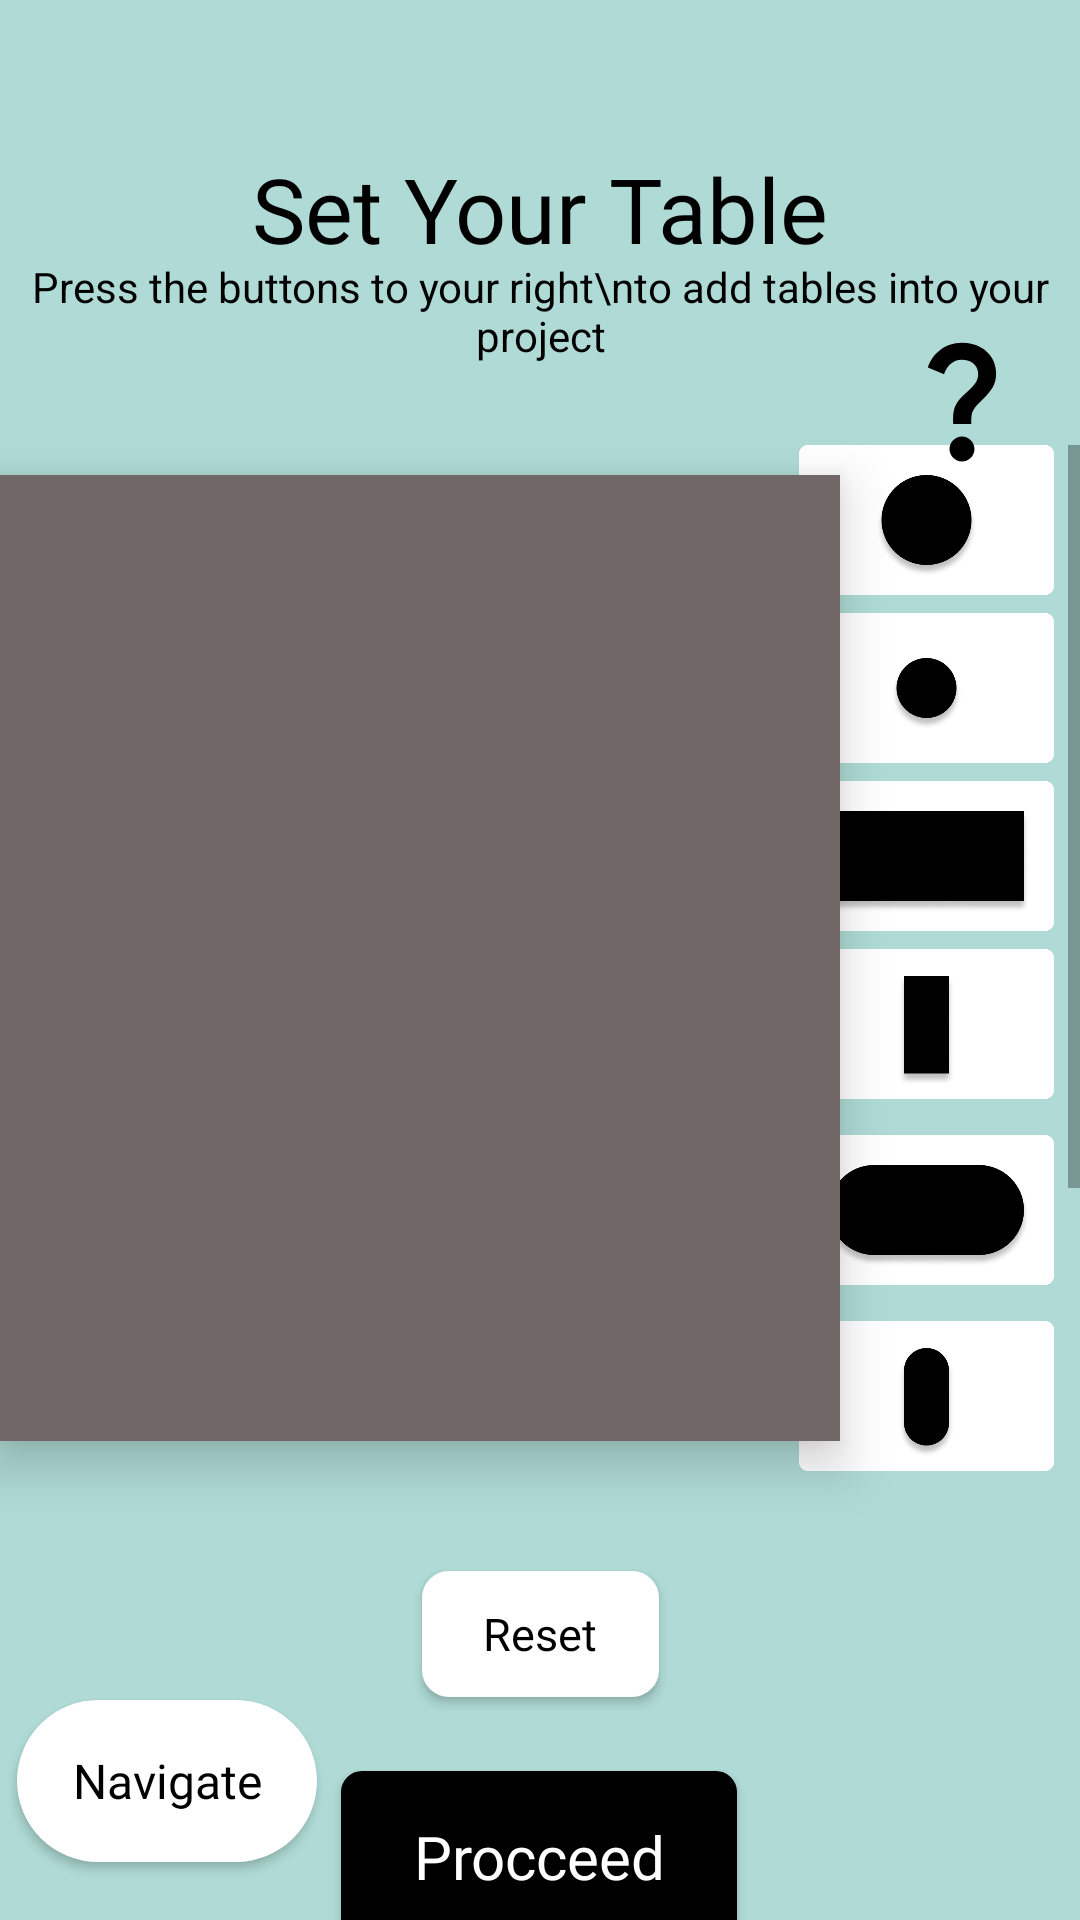

Icon bounding boxes for this 1080×1920 phone screenshot, format (x1, y1, x2, y2):
question mark: (887, 342, 1037, 474)
